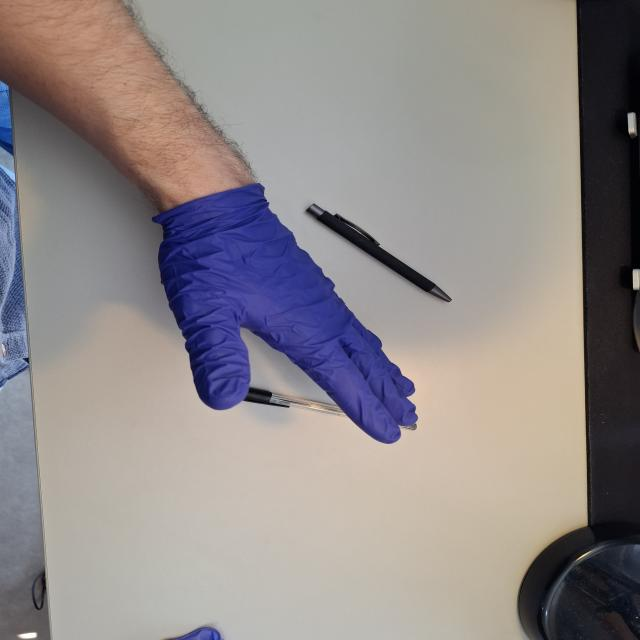glove_on: (151, 186, 422, 446)
